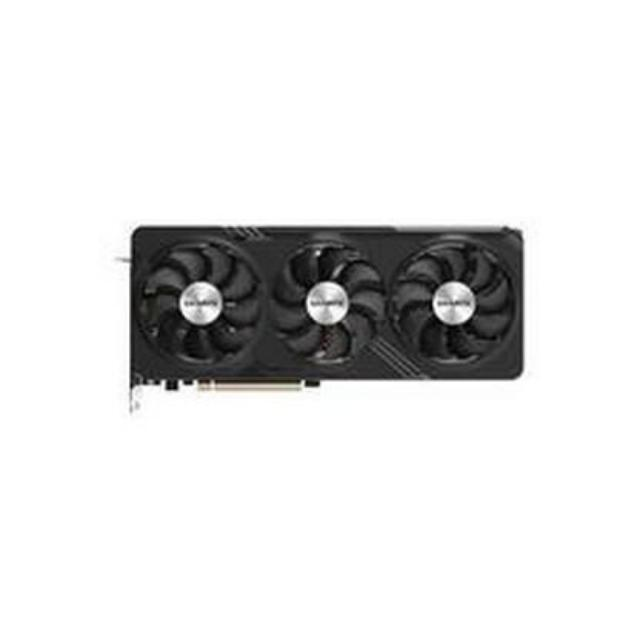GPU: (122, 217, 528, 400)
